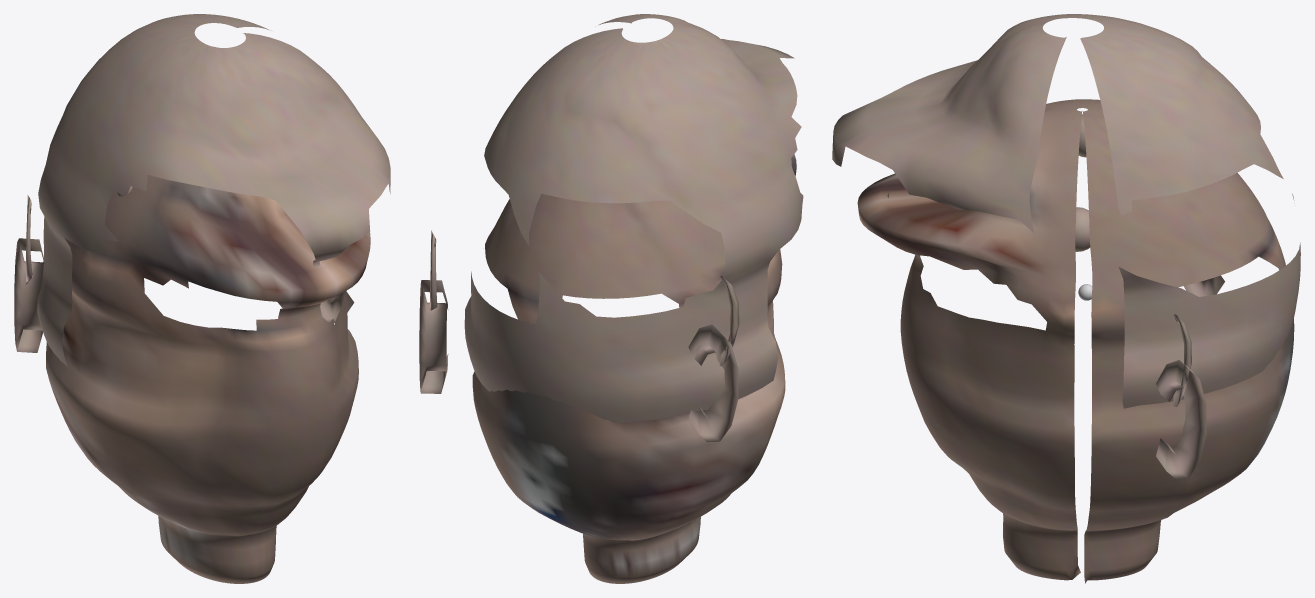
The model's file is avatar_v2_6496ea04.glb.
3 renders of one model, left to right at view 1: azimuth 30°, elevation 25°; view 2: azimuth 150°, elevation 25°; view 3: azimuth 270°, elevation 25°, orthographic.
Parts seen in each view (by area): view 1: world; view 2: world; view 3: world.
Part boxes in pixels (bbox=[...]): world: bbox=[14, 14, 390, 583]; world: bbox=[419, 14, 803, 583]; world: bbox=[832, 14, 1300, 583].
Size of the model in its own units: 0.1037 by 0.1599 by 0.127.
